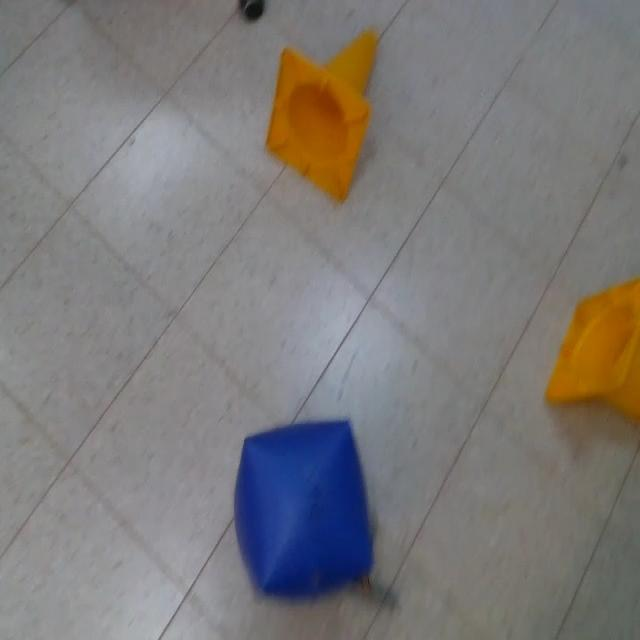cone: (267, 26, 382, 200), (547, 276, 640, 428)
cube: (232, 416, 376, 598)
